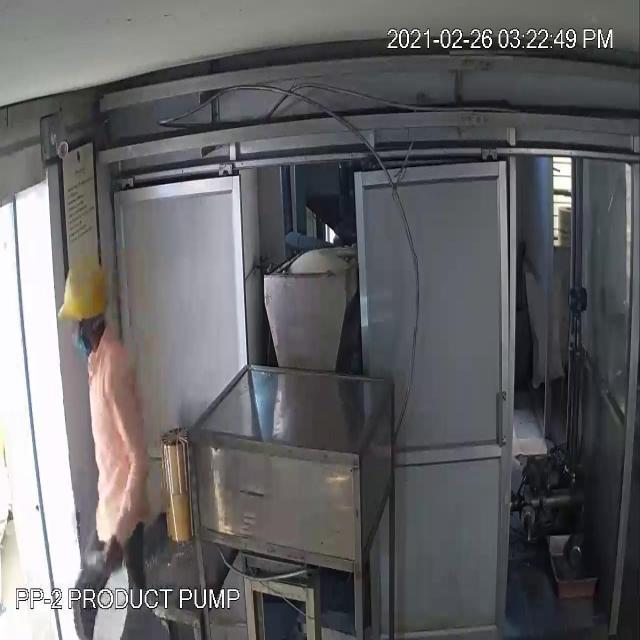hat: (56, 248, 114, 334)
